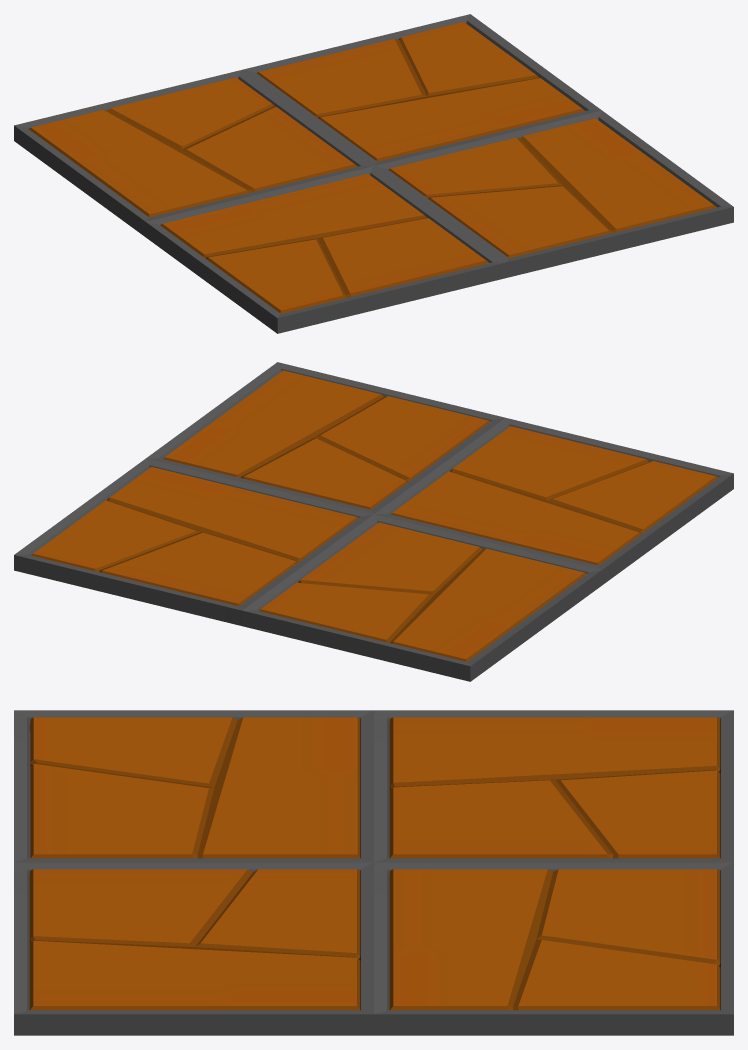
File: Ceiling 4x4M.glb
3 views of the same model, one above another, from view 1: azimuth 30°, elevation 25°; view 2: azimuth 150°, elevation 25°; view 3: azimuth 270°, elevation 25° (orthographic). The views are drawn at different scales.
Parts seen in each view (by area): view 1: FloorCeiling_4x4; view 2: FloorCeiling_4x4; view 3: FloorCeiling_4x4.
Boxes of the visible parts, box(x1,y1,x2,y2) form: FloorCeiling_4x4: box(14, 14, 733, 333); FloorCeiling_4x4: box(14, 362, 733, 681); FloorCeiling_4x4: box(14, 710, 733, 1035).
Size of what is drawn, in the model's own units: 4 by 0.1305 by 4.
1 material, 1 textured.
